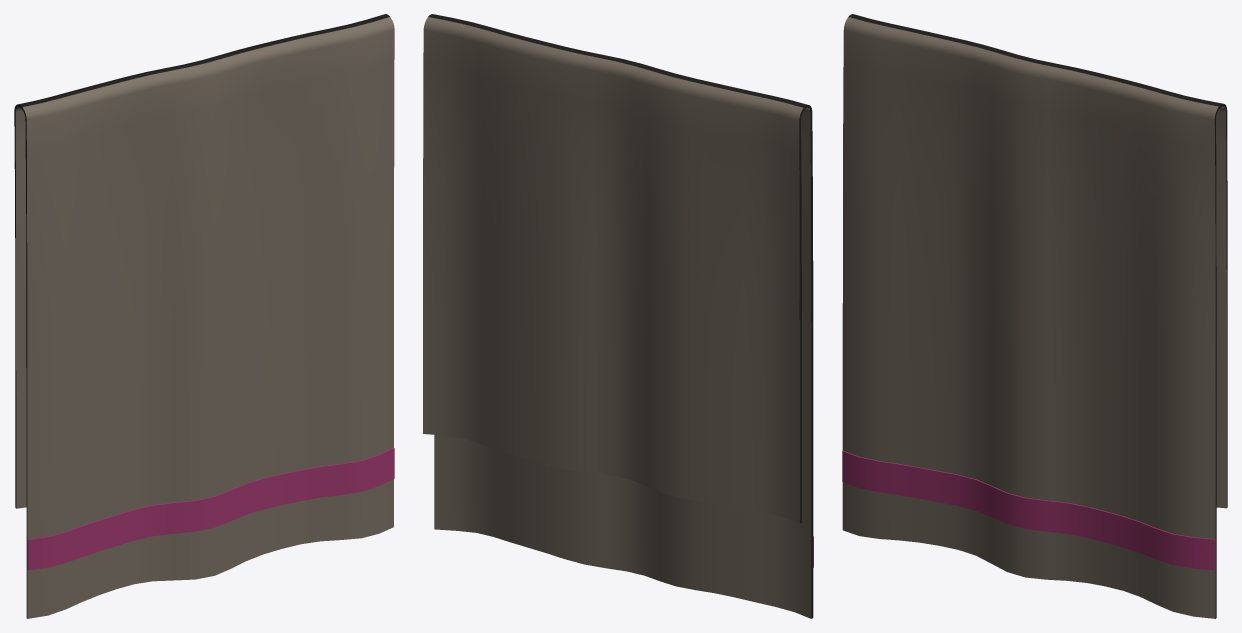
Rendered from towel-line-vibe-3bea9cf699b0.glb.
3 renders of one model, left to right at view 1: azimuth 30°, elevation 25°; view 2: azimuth 150°, elevation 25°; view 3: azimuth 330°, elevation 25°, orthographic.
Visible parts, largest first — view 1: cover-cloth, accent-magenta, rubber; view 2: cover-cloth, rubber; view 3: cover-cloth, accent-magenta, rubber.
Boxes of the visible parts, box(x1,y1,x2,y2) form: cover-cloth: box(15, 14, 394, 618); accent-magenta: box(27, 447, 394, 570); rubber: box(14, 14, 389, 618); cover-cloth: box(423, 14, 811, 618); rubber: box(428, 14, 813, 618); cover-cloth: box(842, 14, 1226, 618); accent-magenta: box(842, 450, 1215, 570); rubber: box(848, 14, 1227, 618).
Bounding box in the file's own units: 0.38 × 0.5 × 0.036.
